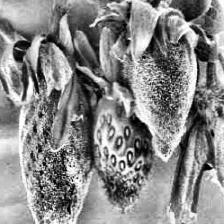Gray Mold: (90, 0, 213, 163), (18, 42, 93, 224)
